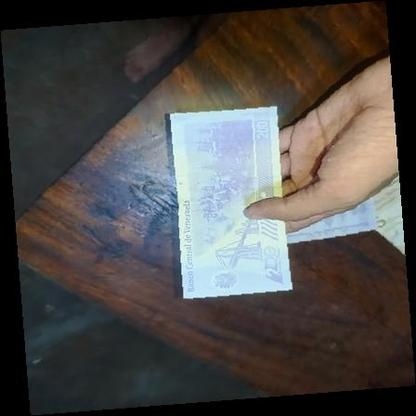two_hundred-back-vef: (168, 106, 292, 299)
